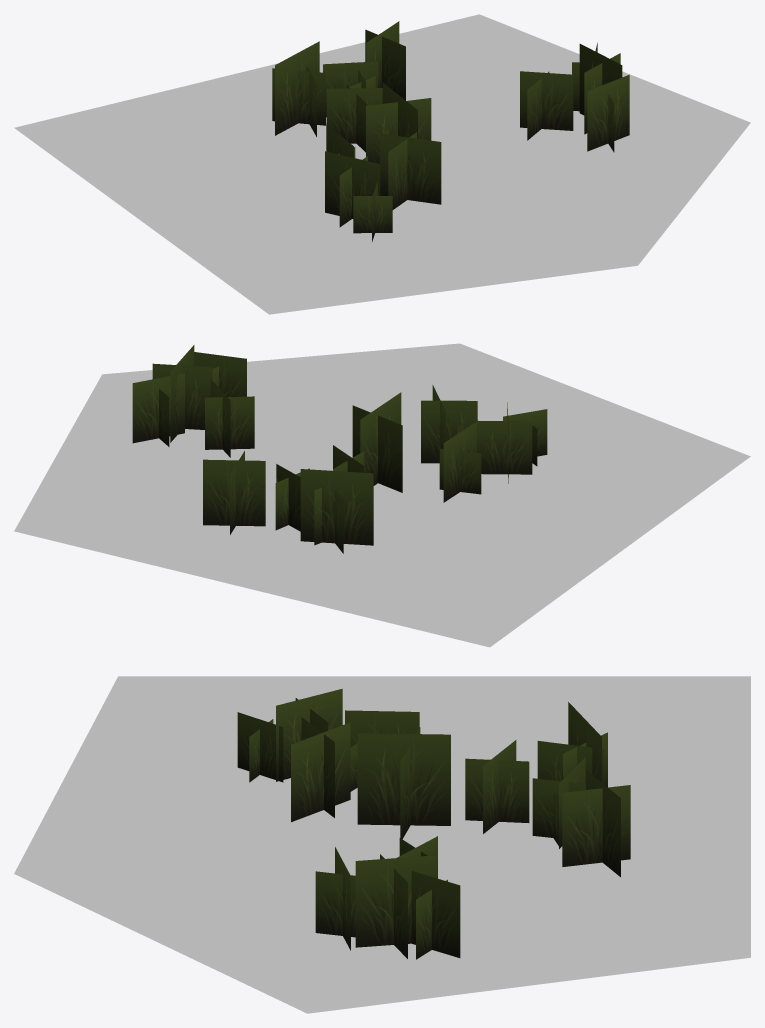
The model's file is Mud_Decal_05.fbx.
The picture shows the model from 3 angles, top to bottom: view 1: azimuth 30°, elevation 25°; view 2: azimuth 150°, elevation 25°; view 3: azimuth 270°, elevation 25°; orthographic projection. The views are drawn at different scales.
Visible parts, largest first — view 1: Mud_Decal_05; view 2: Mud_Decal_05; view 3: Mud_Decal_05.
Boxes of the visible parts, left/top/right/bottom form: Mud_Decal_05: left=14, top=14, right=750, bottom=314; Mud_Decal_05: left=14, top=343, right=750, bottom=647; Mud_Decal_05: left=14, top=676, right=750, bottom=1013.
Size of the model in its own units: 8.8 by 8.12 by 1.13.
